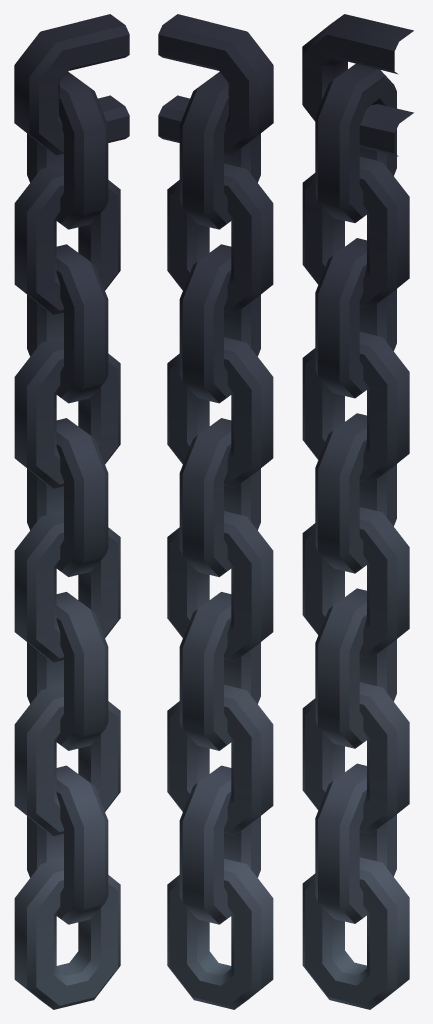
File: Chain_1_3.glb
3 views of the same model, side by side, from view 1: azimuth 30°, elevation 25°; view 2: azimuth 150°, elevation 25°; view 3: azimuth 330°, elevation 25° (orthographic).
Parts seen in each view (by area): view 1: Chain_1_3; view 2: Chain_1_3; view 3: Chain_1_3.
Boxes of the visible parts, x1,y1,x2,y2 form: Chain_1_3: (14,14,129,1009); Chain_1_3: (158,14,273,1009); Chain_1_3: (302,14,413,1009).
Size of the model in its own units: 0.1177 by 1.12 by 0.1134.
1 material, 1 textured.
